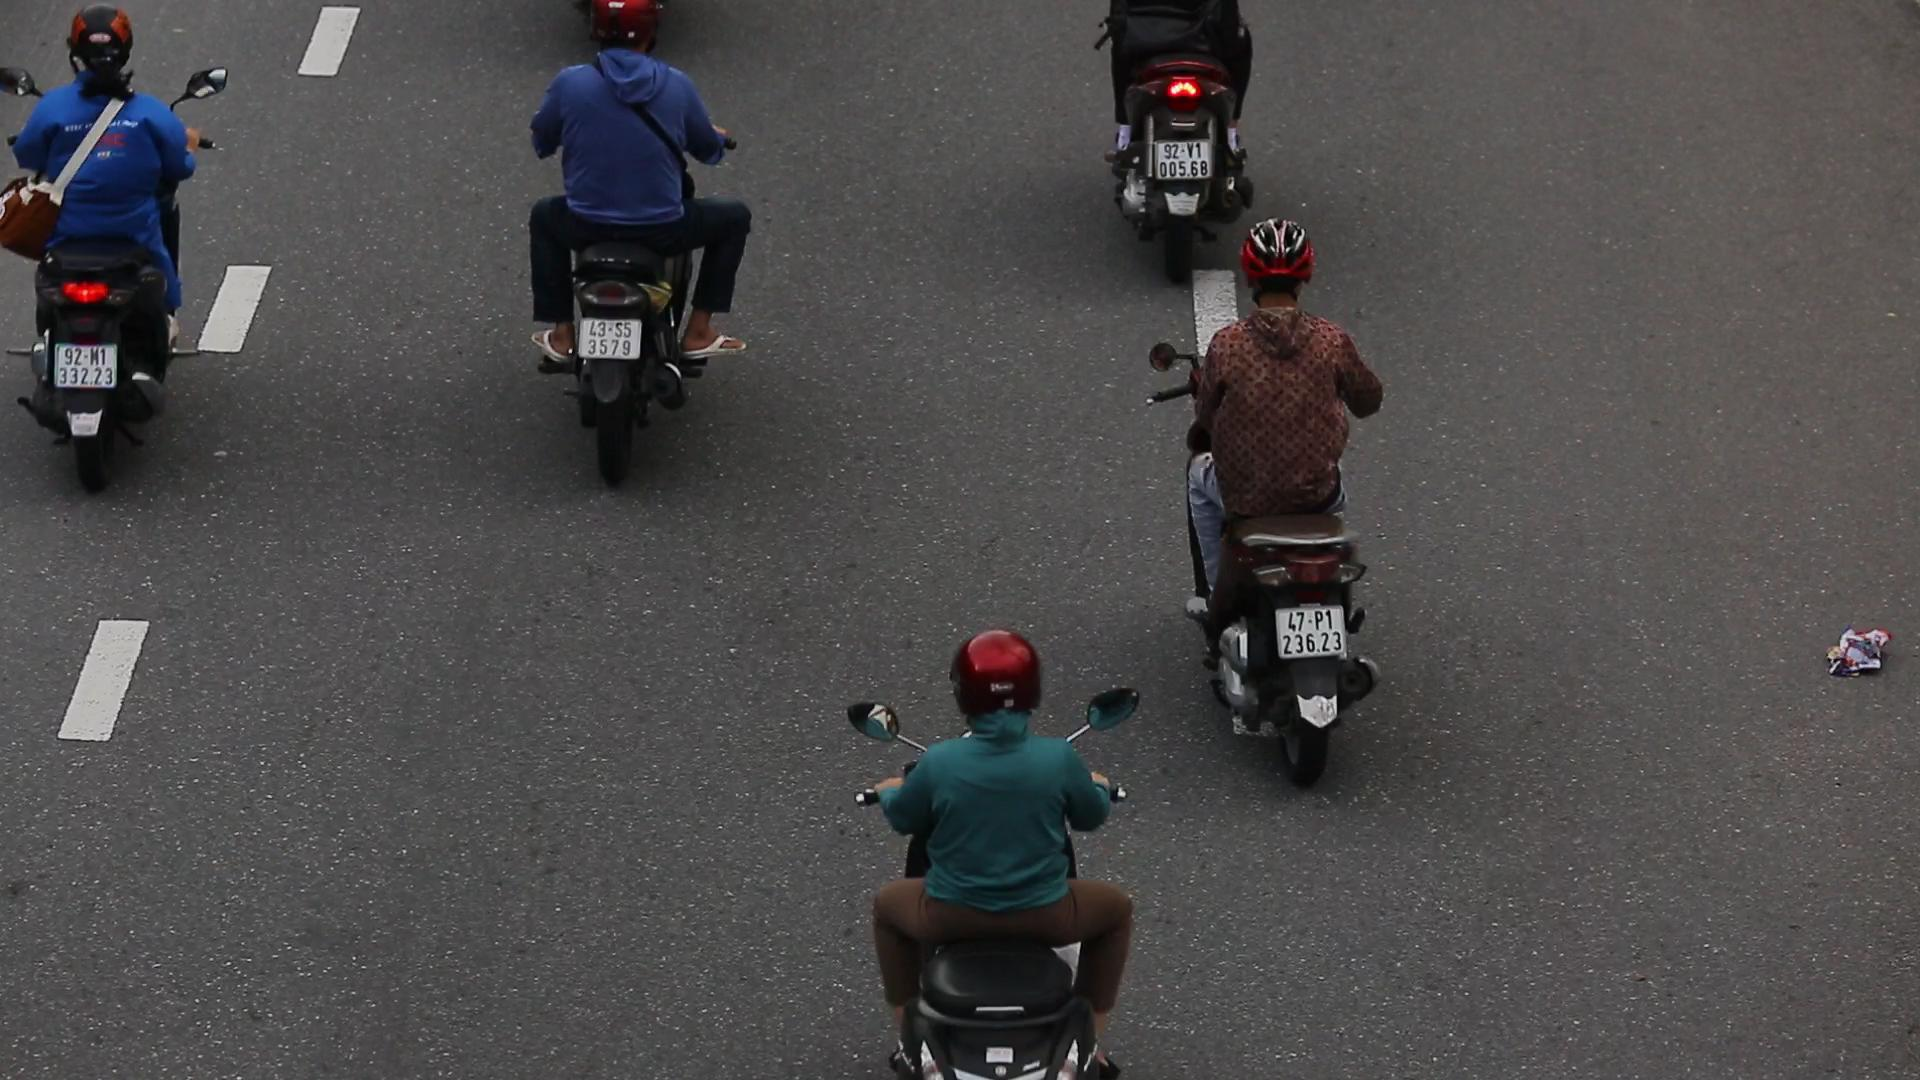motobike: (1150, 220, 1453, 793), (0, 11, 264, 492)
